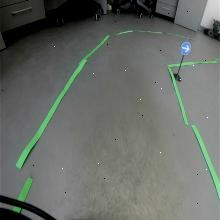right: (181, 40, 192, 56)
